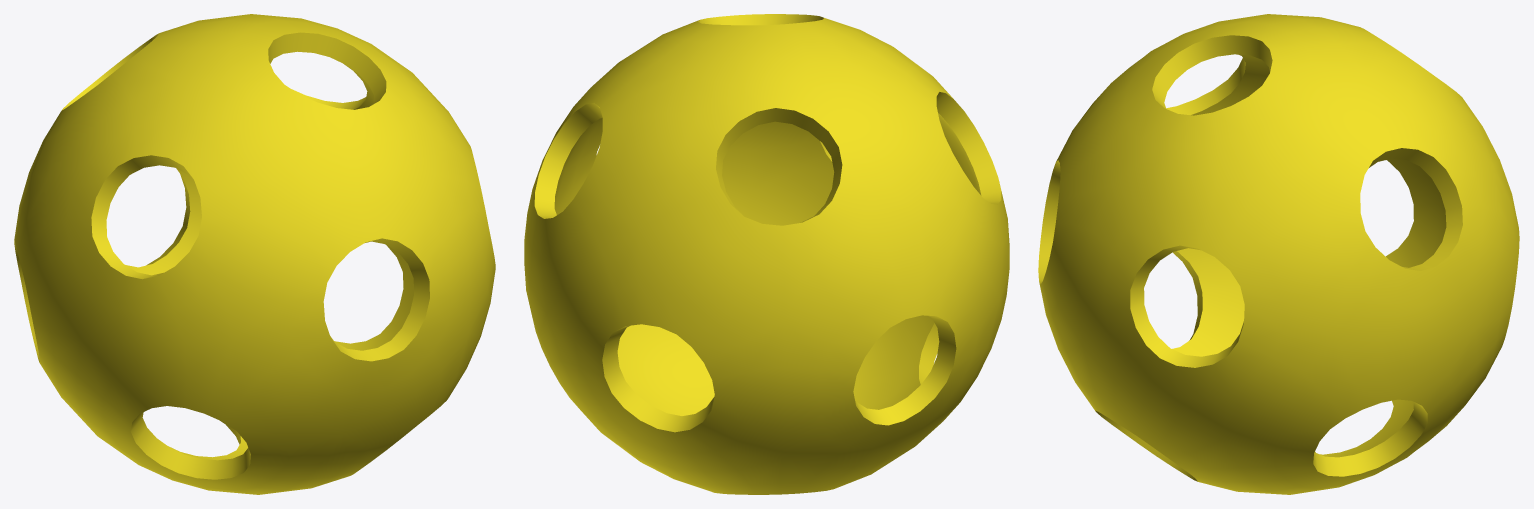
Rendered from Pickleball_Yellow.fbx.
3 renders of one model, left to right at view 1: azimuth 30°, elevation 25°; view 2: azimuth 150°, elevation 25°; view 3: azimuth 270°, elevation 25°, orthographic.
Visible parts, largest first — view 1: Pickleball_Yellow; view 2: Pickleball_Yellow; view 3: Pickleball_Yellow.
Boxes of the visible parts, box(x1,y1,x2,y2) form: Pickleball_Yellow: box(14, 14, 495, 494); Pickleball_Yellow: box(524, 14, 1009, 494); Pickleball_Yellow: box(1038, 14, 1519, 494).
Bounding box in the file's own units: 92.7 × 92.6 × 92.6.
